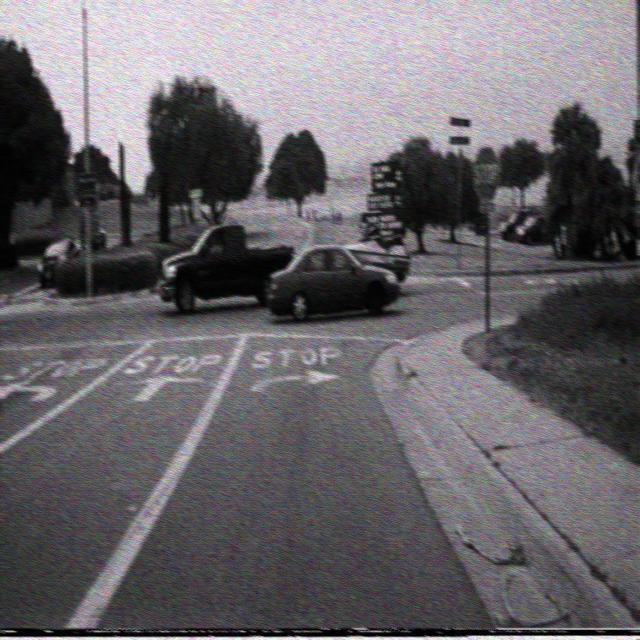stop: (472, 144, 501, 202)
